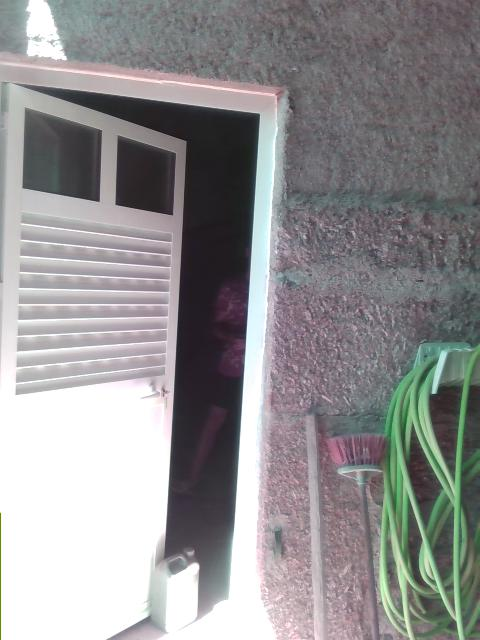semi_door: (1, 52, 284, 639)
